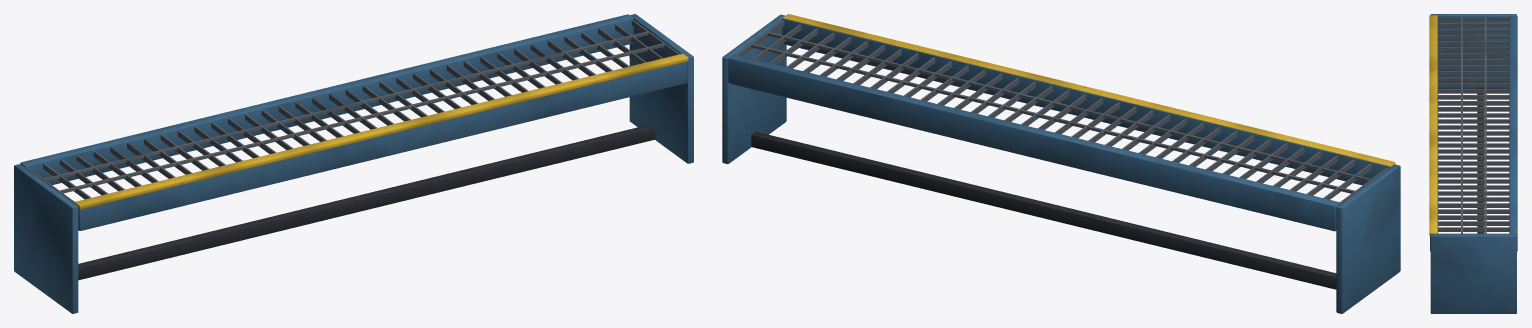
The model's file is stair_step.glb.
The picture shows the model from 3 angles, left to right: view 1: azimuth 30°, elevation 25°; view 2: azimuth 150°, elevation 25°; view 3: azimuth 270°, elevation 25°; orthographic projection. The views are drawn at different scales.
Parts seen in each view (by area): view 1: StairStepMesh; view 2: StairStepMesh; view 3: StairStepMesh.
Boxes of the visible parts, x1,y1,x2,y2 form: StairStepMesh: (14,14,693,313); StairStepMesh: (722,14,1400,313); StairStepMesh: (1429,14,1517,313).
Size of the model in its own units: 1.5 by 0.249 by 0.252.
Materials: 4 (4 with a texture image).
